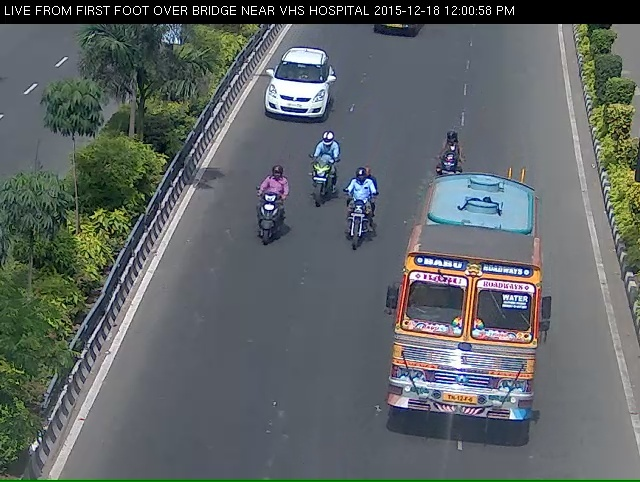Bus: (402, 187, 533, 445)
Car: (256, 60, 326, 128)
Person: (334, 181, 372, 262), (248, 181, 280, 275), (292, 154, 328, 217), (425, 140, 454, 202)
